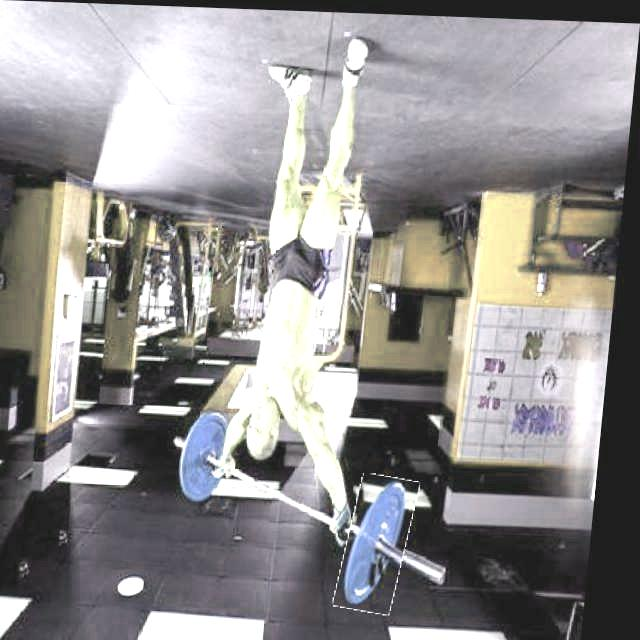barbell: (349, 472, 425, 612)
